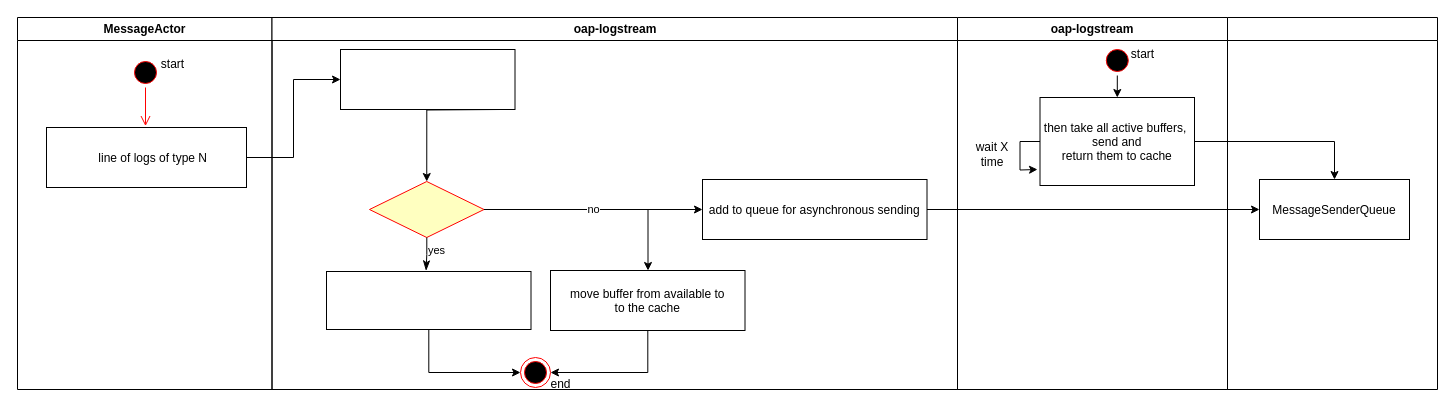
Some shapes in this 1455 by 417 pixel diagram are drawn without their labels. The shapes that lost their labels are listed below. From the top down, each one's box as (x1, y1, x2, y2) in pixels, then its label:
(340, 48, 515, 110): getOrCreate buffer of type N
(368, 180, 484, 238): free space exists
(1226, 16, 1438, 390): oap-stdlib (oap-message-client)
(326, 270, 531, 330): add a log line to the end of the buffer
